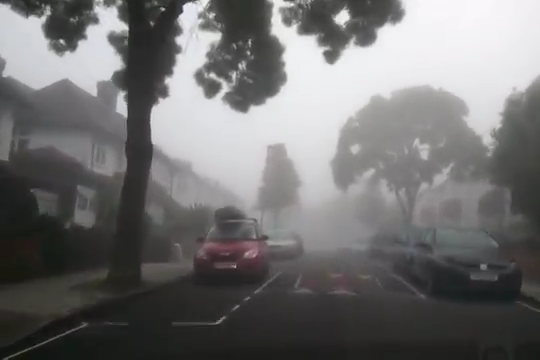car: (408, 225, 524, 306), (193, 216, 271, 284), (384, 222, 454, 282), (258, 228, 305, 261)
